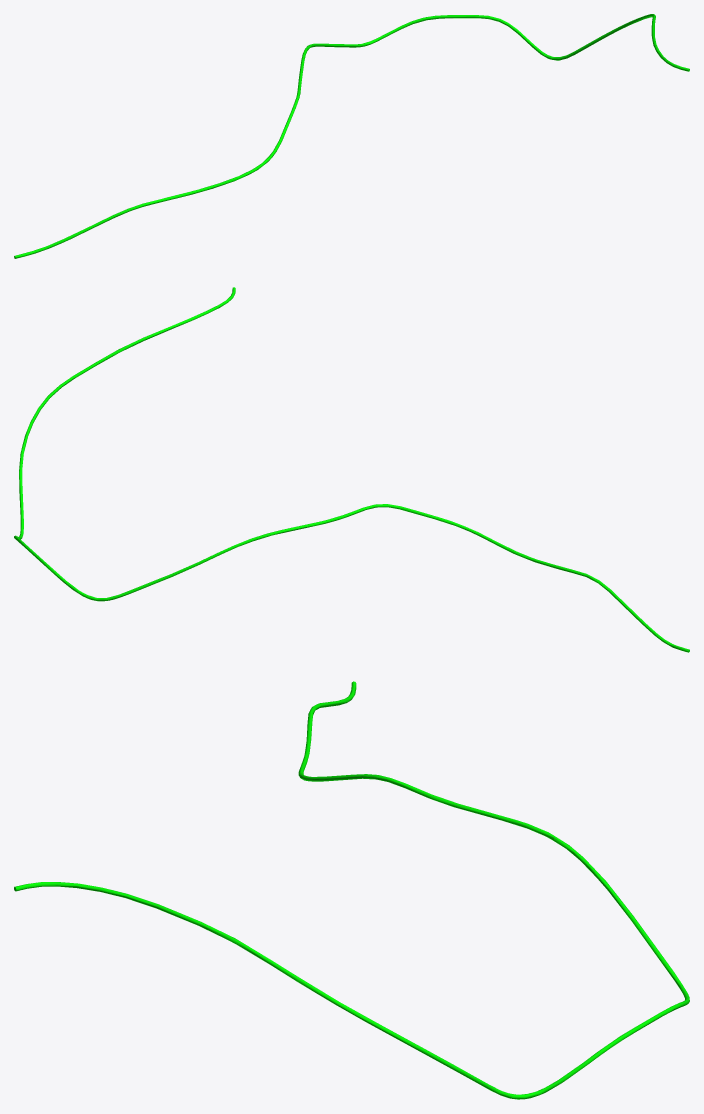
The picture shows the model from 3 angles, top to bottom: view 1: azimuth 30°, elevation 25°; view 2: azimuth 150°, elevation 25°; view 3: azimuth 270°, elevation 25°; orthographic projection. The views are drawn at different scales.
Parts seen in each view (by area): view 1: geom5; view 2: geom5; view 3: geom5.
Part boxes in pixels (x1,y1,x2,y2): geom5: (14,14,689,258); geom5: (14,287,689,652); geom5: (14,681,689,1099).
Bounding box in the file's own units: 685 × 141 × 427.
